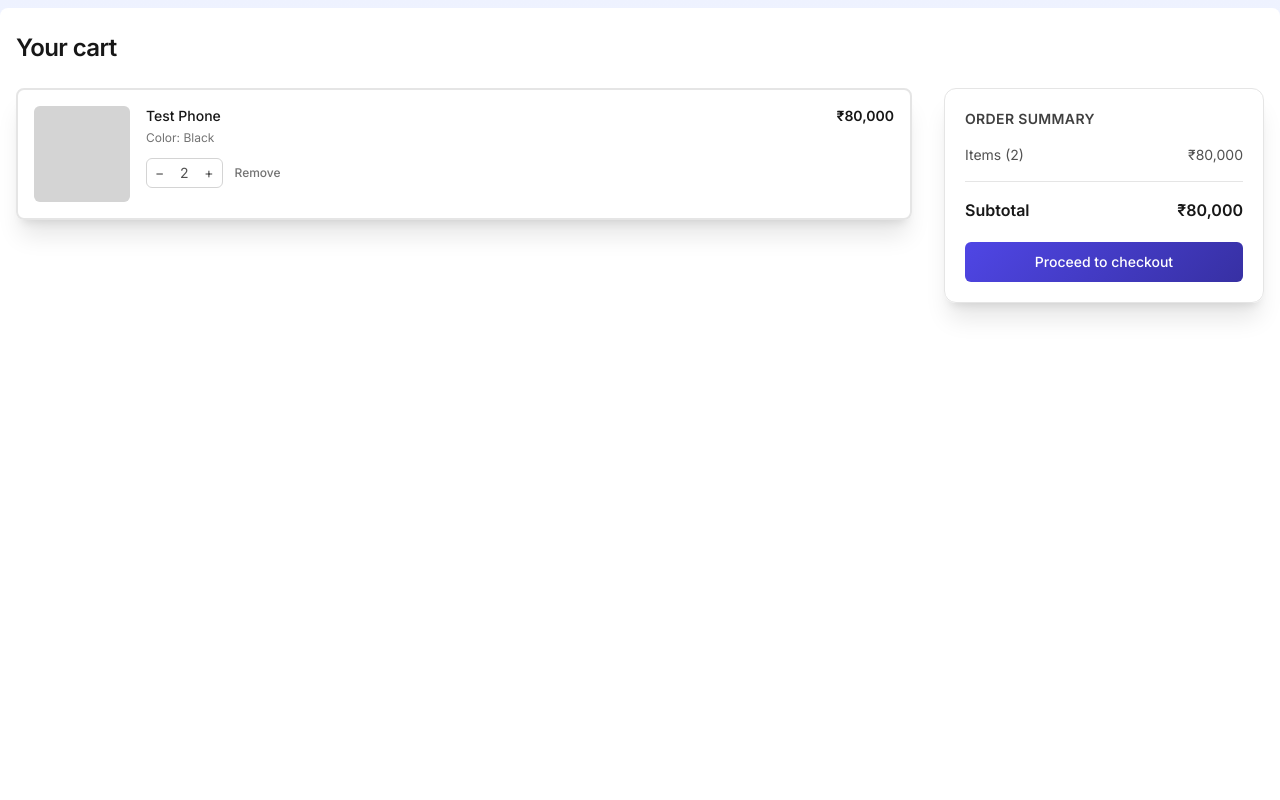
Test: Cart page › shows a toast with the available count when a quantity increase hits INSUFFICIENT_STOCK
Expected: the link "Test Phone" is shown, [146,107,221,124]
Click the button named "increase quantity".
click(209, 173)  # box [196,159,222,187]
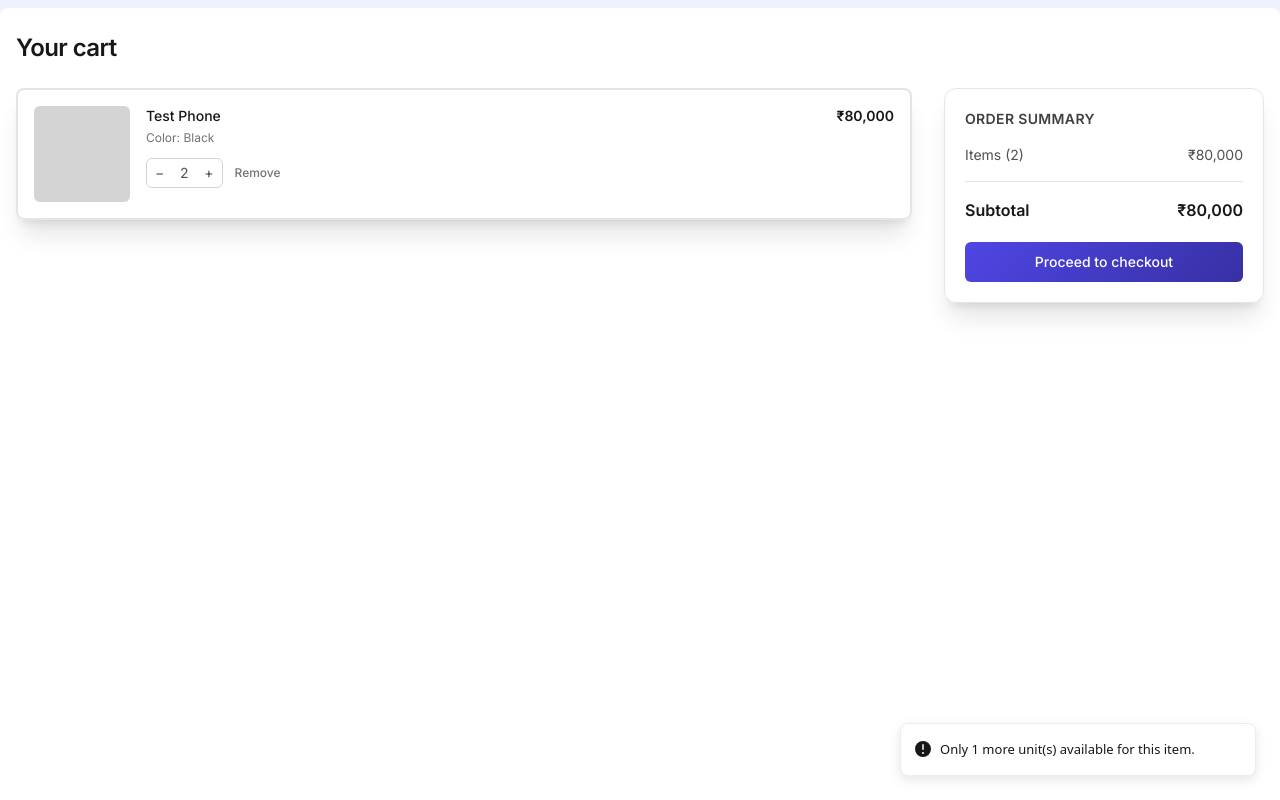
Now the text "Only 1 more unit(s) available for this item." is shown, box [940,740,1195,759]
